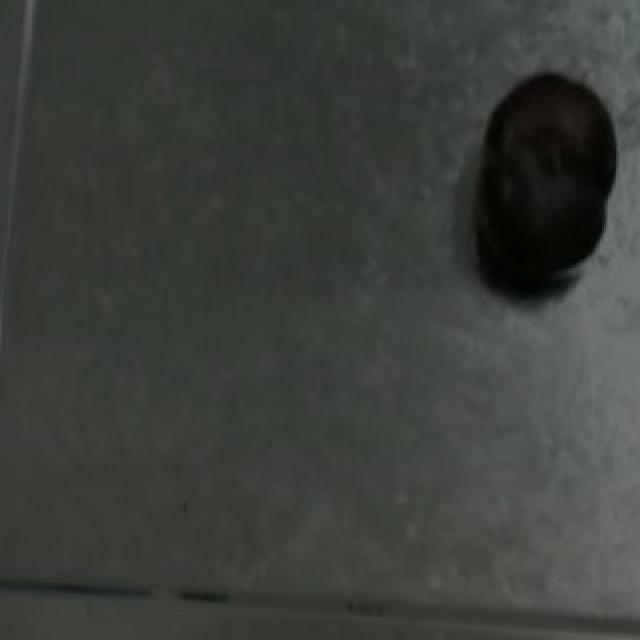Fruit: (468, 57, 628, 265)
